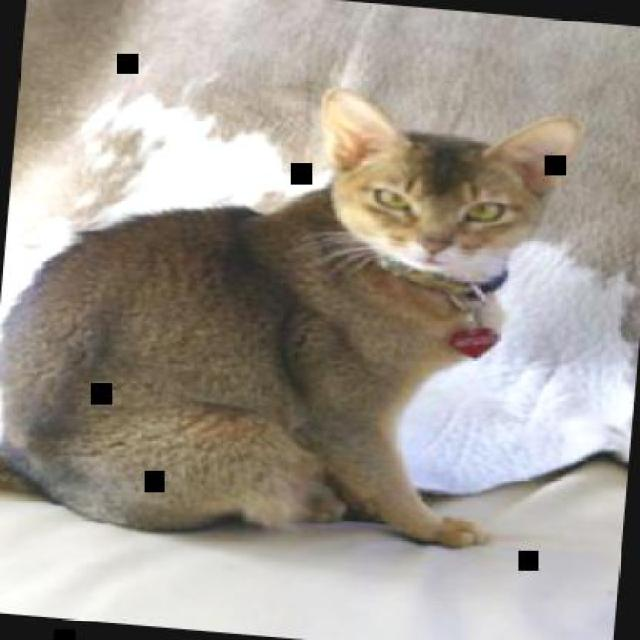cat: (0, 60, 588, 572)
